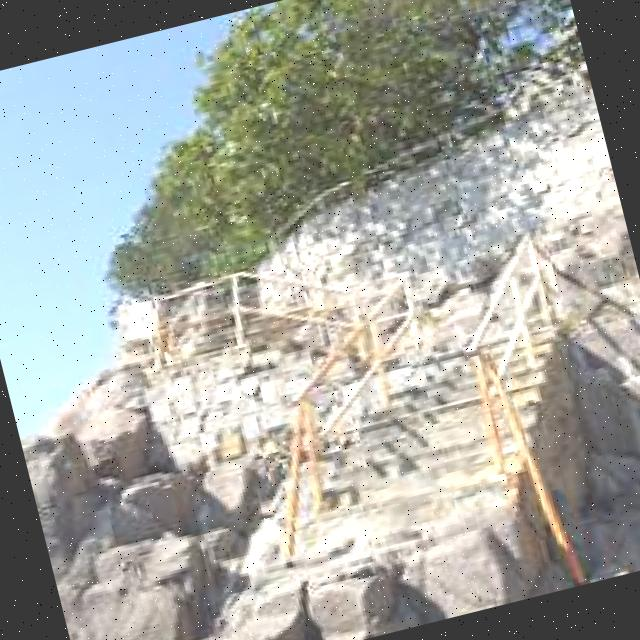stairs: (70, 102, 622, 640)
